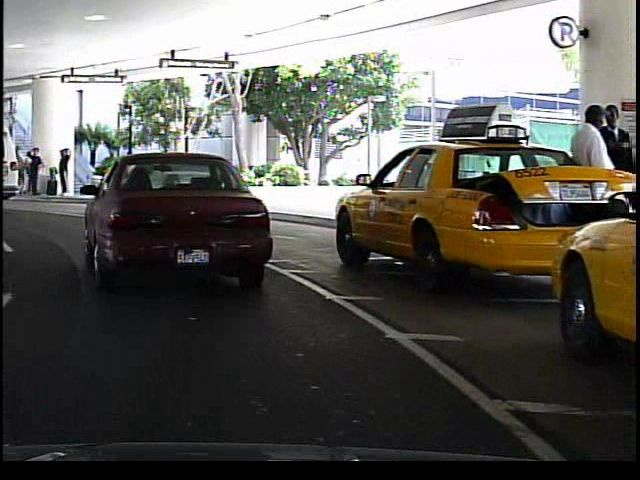person: (560, 102, 616, 268), (596, 98, 637, 256), (22, 142, 44, 201), (113, 146, 138, 193), (52, 142, 71, 199)
